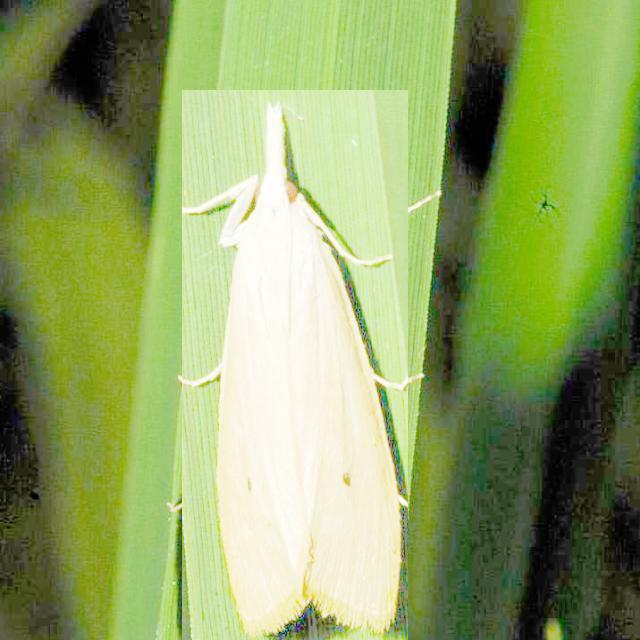stem-borer: (182, 90, 408, 640)
